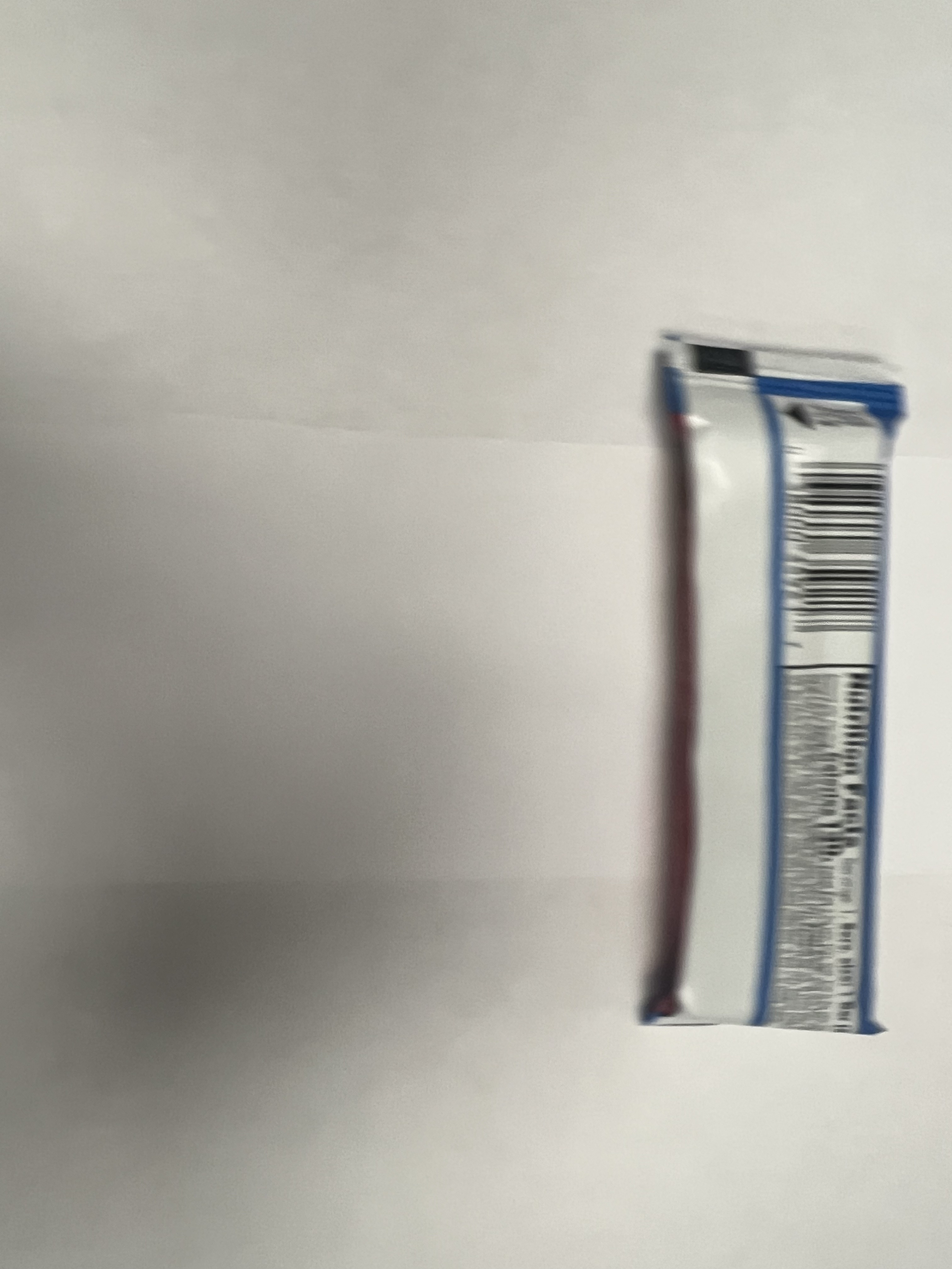packaged: (657, 330, 899, 1041)
